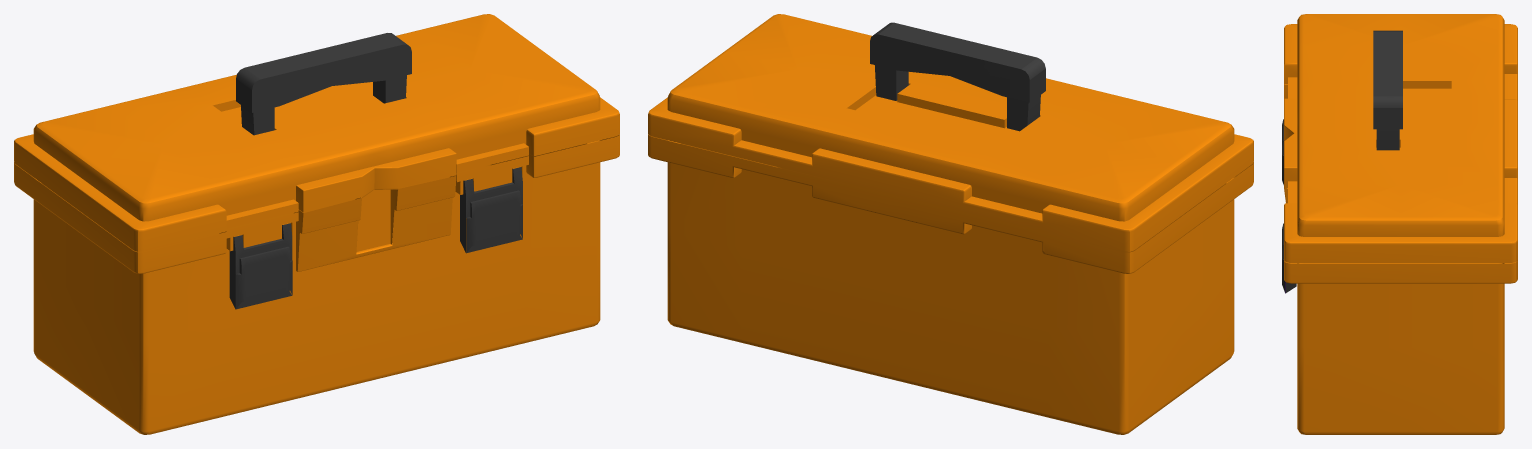
The model's file is toolbox.fbx.
3 views of the same model, side by side, from view 1: azimuth 30°, elevation 25°; view 2: azimuth 150°, elevation 25°; view 3: azimuth 270°, elevation 25° (orthographic). The views are drawn at different scales.
Visible parts, largest first — view 1: Tool_box1; view 2: Tool_box1; view 3: Tool_box1.
Part boxes in pixels (box(x1,y1,x2,y2)): Tool_box1: box(14, 14, 619, 434); Tool_box1: box(648, 14, 1253, 434); Tool_box1: box(1282, 14, 1517, 434).
Size of the model in its own units: 107 by 61.13 by 48.47.
Materials: 1 (1 with a texture image).
